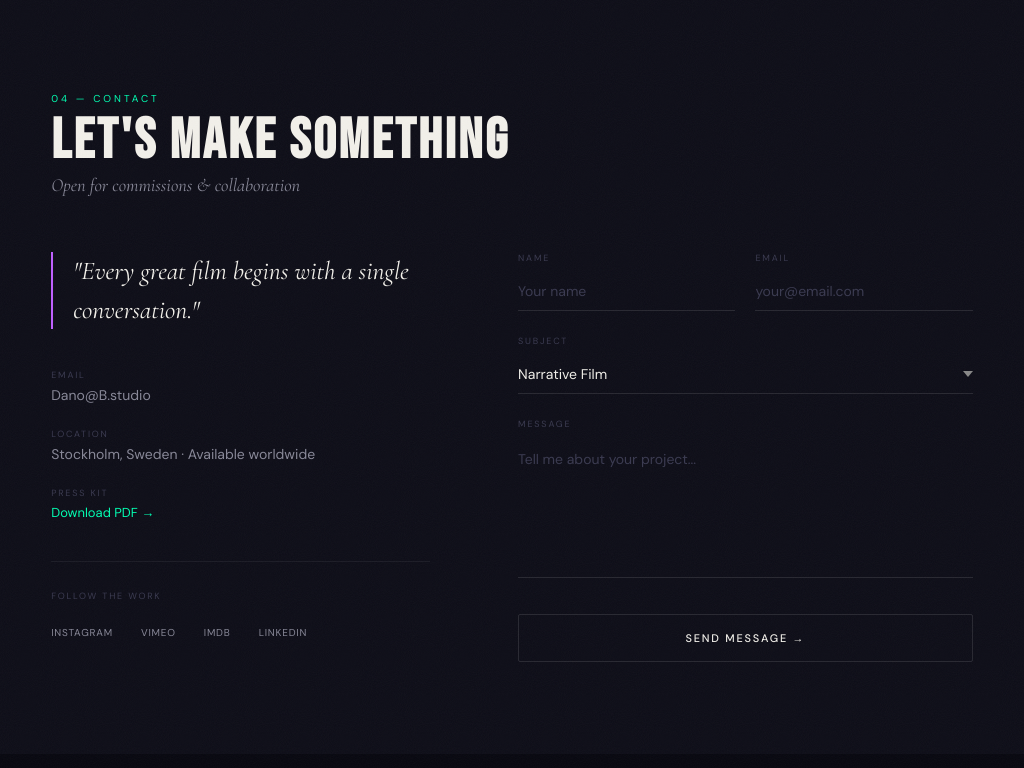
Scenario: Contact › clears field error when user starts typing
Click the button "Send Message →".
click(745, 638)  # box [518, 614, 973, 662]
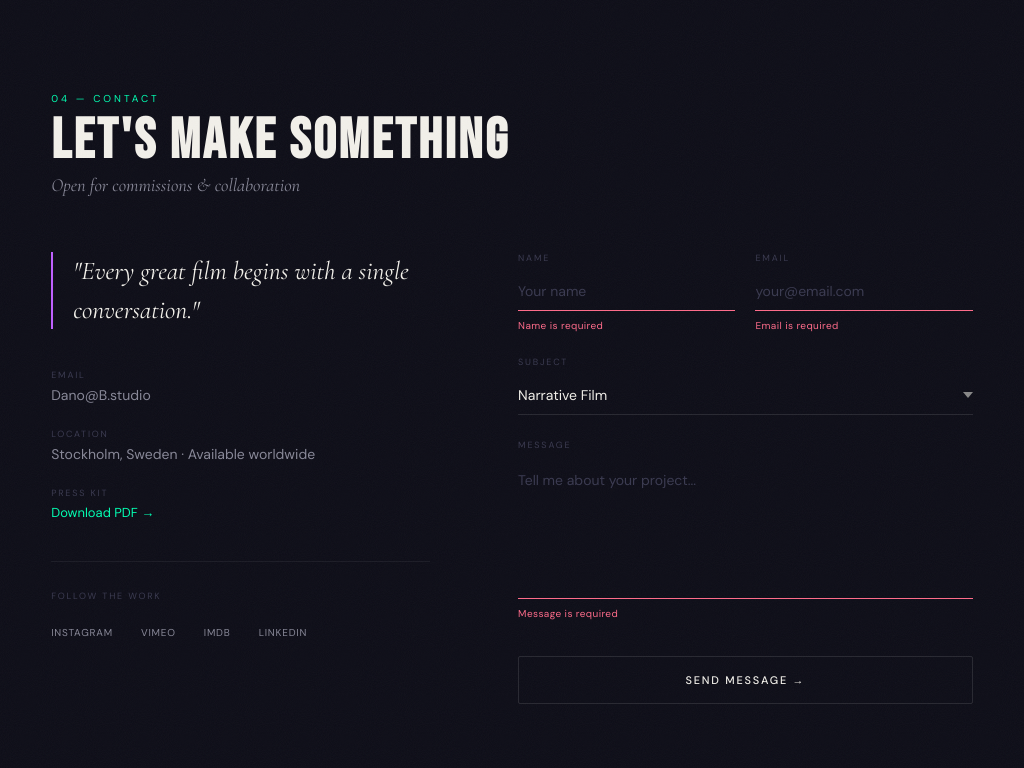
expect the text "Name is required" is shown: met, box [518, 319, 603, 332]
Type "A" into the field labelled "Name".
click(627, 292); type("A")  # box [518, 272, 736, 311]
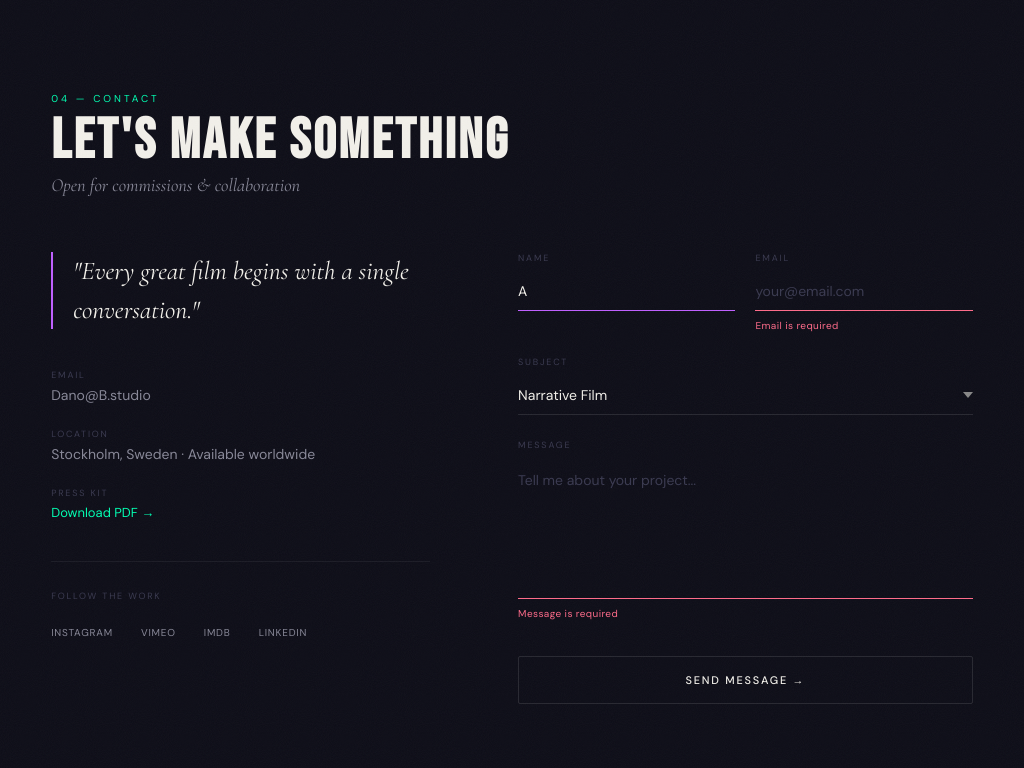
expect the text "Name is required" is gone: met
